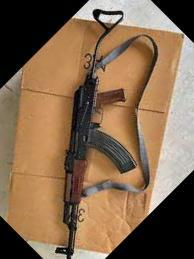larga: (55, 8, 138, 259)
